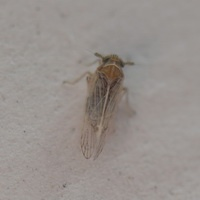insect: (63, 52, 133, 158)
